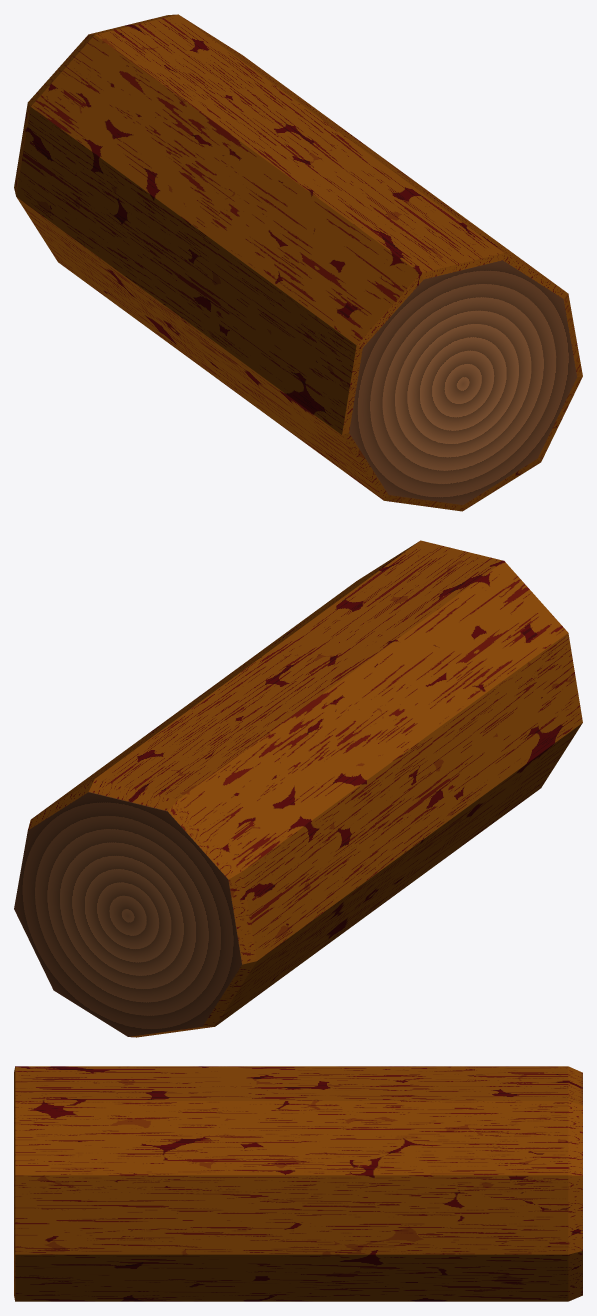
Rendered from bakedlog.fbx.
The picture shows the model from 3 angles, top to bottom: view 1: azimuth 30°, elevation 25°; view 2: azimuth 150°, elevation 25°; view 3: azimuth 270°, elevation 25°; orthographic projection. The views are drawn at different scales.
Parts seen in each view (by area): view 1: Cylinder_Baked; view 2: Cylinder_Baked; view 3: Cylinder_Baked.
Boxes of the visible parts, box(x1,y1,x2,y2) form: Cylinder_Baked: box(14, 14, 582, 511); Cylinder_Baked: box(14, 540, 582, 1037); Cylinder_Baked: box(14, 1066, 582, 1301).
Bounding box in the file's own units: 43.86 × 43.19 × 106.
Materials: 1 (1 with a texture image).
